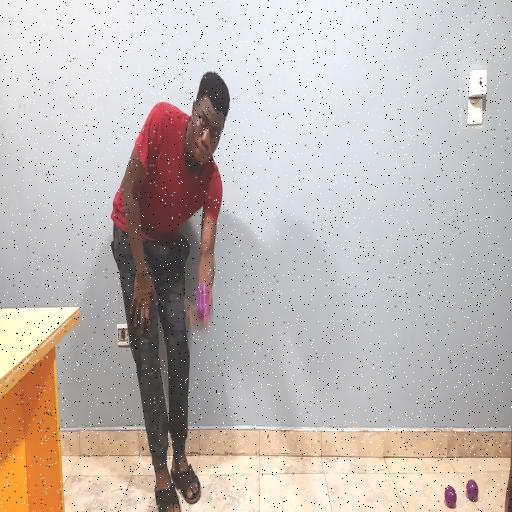plastic-ball: (197, 282, 210, 324)
